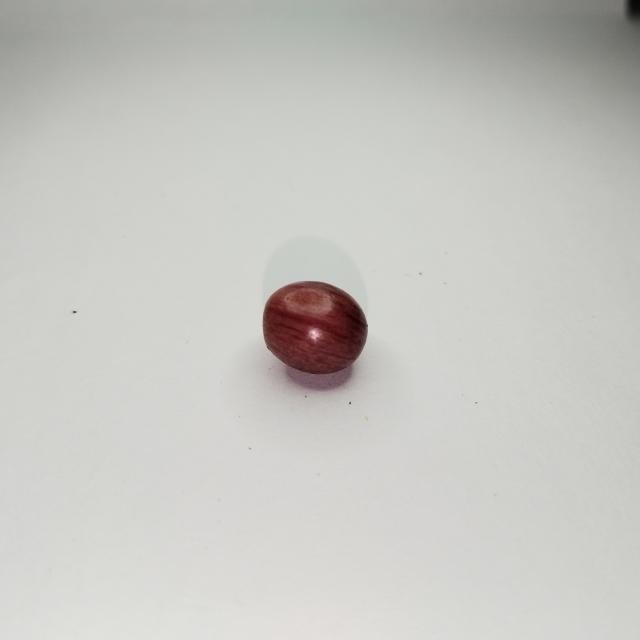Sano: (264, 281, 367, 378)
